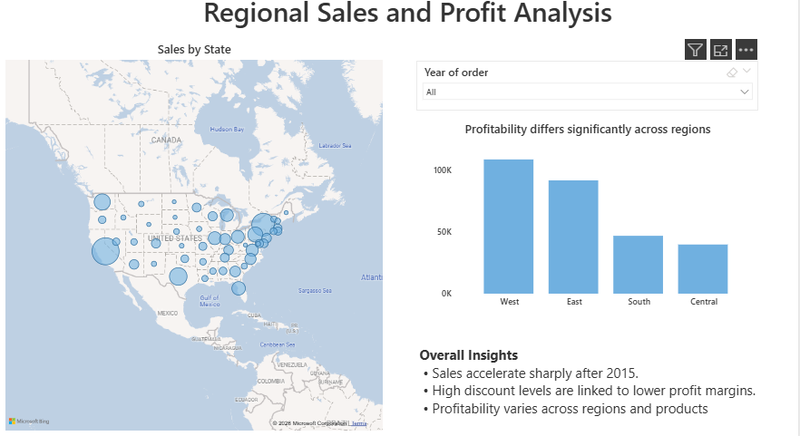

The page's visual inventory and layout, read from the dashboard file:
{"tool":"powerbi","page":{"name":"Regional Performance","canvas":[1280,720],"ordinal":2},"visuals":[{"type":"textbox","box":[152.6,0,1012.3,83.5],"z":0},{"type":"map","title":"Sales by State","fields":{"Size":["Sample - Superstore.Total Sales"],"Category":["Sample - Superstore.State"]},"box":[16,80,608,624],"z":1000},{"type":"clusteredColumnChart","title":"Profitability differs significantly across regions","fields":{"Category":["Sample - Superstore.Region"],"Y":["Sample - Superstore.Total Profit"]},"box":[672,208,544,320],"z":2000},{"type":"slicer","fields":{"Values":["Sample - Superstore.Year of order"]},"box":[672,112,544,80],"z":3000},{"type":"textbox","box":[672,560,544,144],"z":4000}]}

Visuals, with their boxes on the page's 1280x720 design canvas (x1, y1, x2, y2). These are canvas units, not pixel positions in the 800x436 screenshot, which may show the page scaled, cropped or inside an application window:
textbox: {"x1": 153, "y1": 0, "x2": 1165, "y2": 84}
"Sales by State" map: {"x1": 16, "y1": 80, "x2": 624, "y2": 704}
"Profitability differs significantly across regions" clusteredColumnChart: {"x1": 672, "y1": 208, "x2": 1216, "y2": 528}
slicer - Sample - Superstore.Year of order: {"x1": 672, "y1": 112, "x2": 1216, "y2": 192}
textbox: {"x1": 672, "y1": 560, "x2": 1216, "y2": 704}
